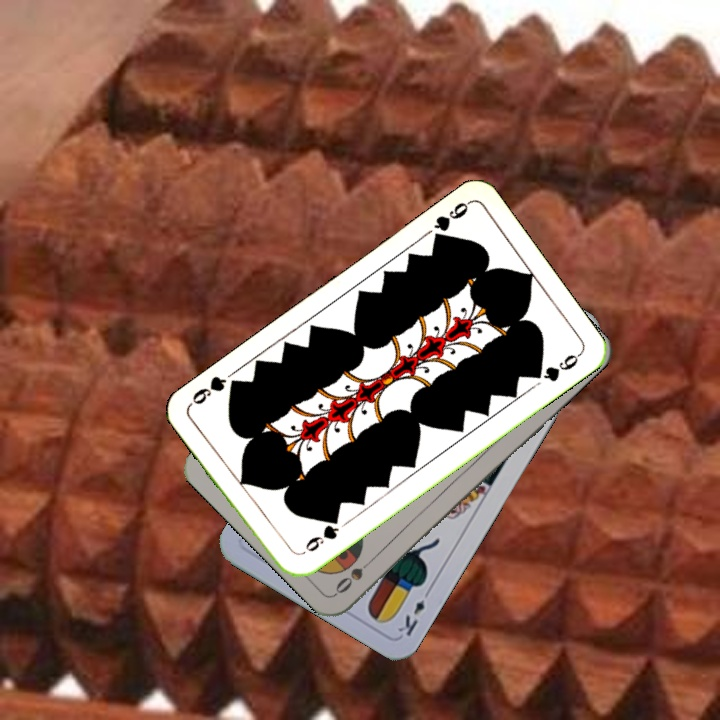EK: (393, 584, 435, 639)
G9: (428, 197, 473, 246), (295, 513, 342, 558)
SO: (331, 551, 379, 597)
